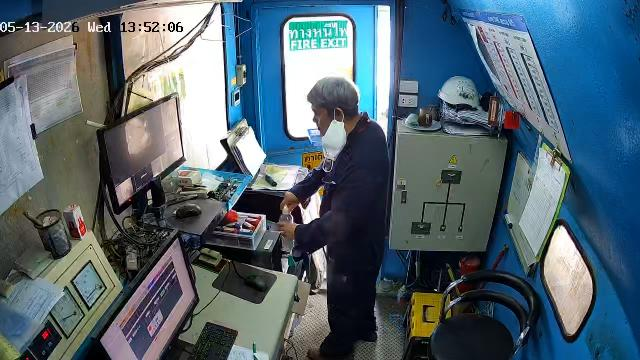Head: (307, 77, 359, 135)
People: (279, 77, 389, 359)
